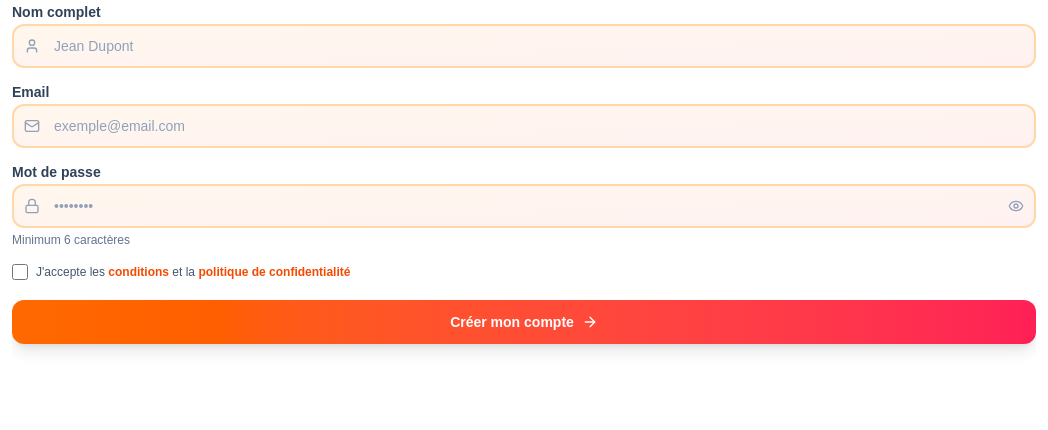
Test: RegisterForm › shows validation errors when submitting empty form
This screenshot has width=1048, height=430.
Click the button "Créer mon compte": (524, 322) [12,300,1036,344]
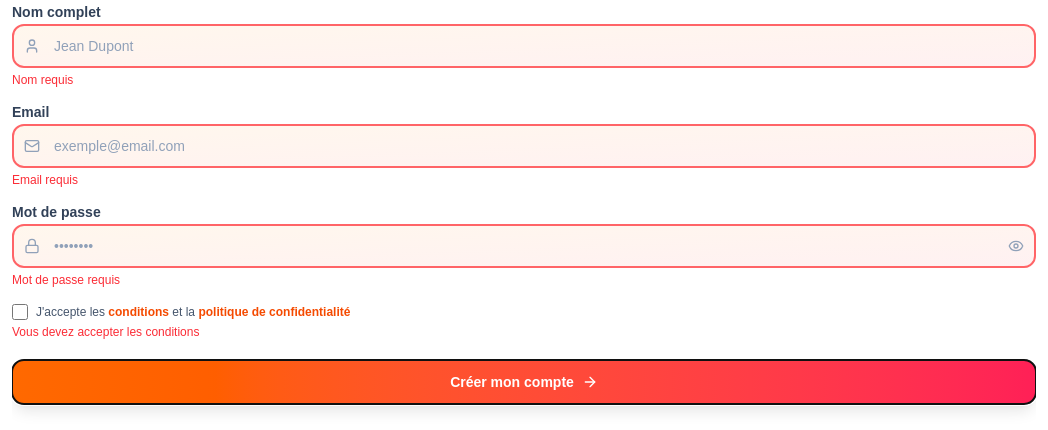
Check: the text "Nom requis" is shown, box [12,73,73,87]
Check: the text "Email requis" is shown, box [12,173,78,187]
Check: the text "Mot de passe requis" is shown, box [12,273,120,287]
